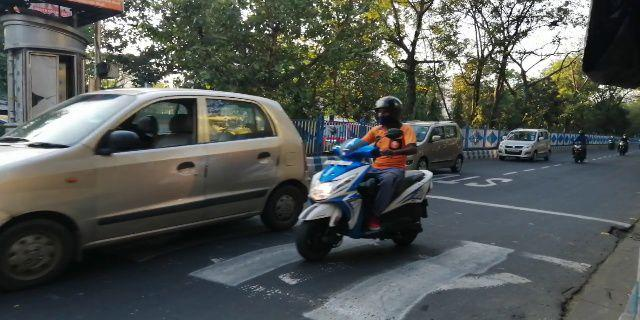Car: (2, 87, 306, 270), (413, 122, 470, 176), (496, 125, 555, 170)
Motorbike: (285, 95, 435, 265), (567, 127, 589, 168)
